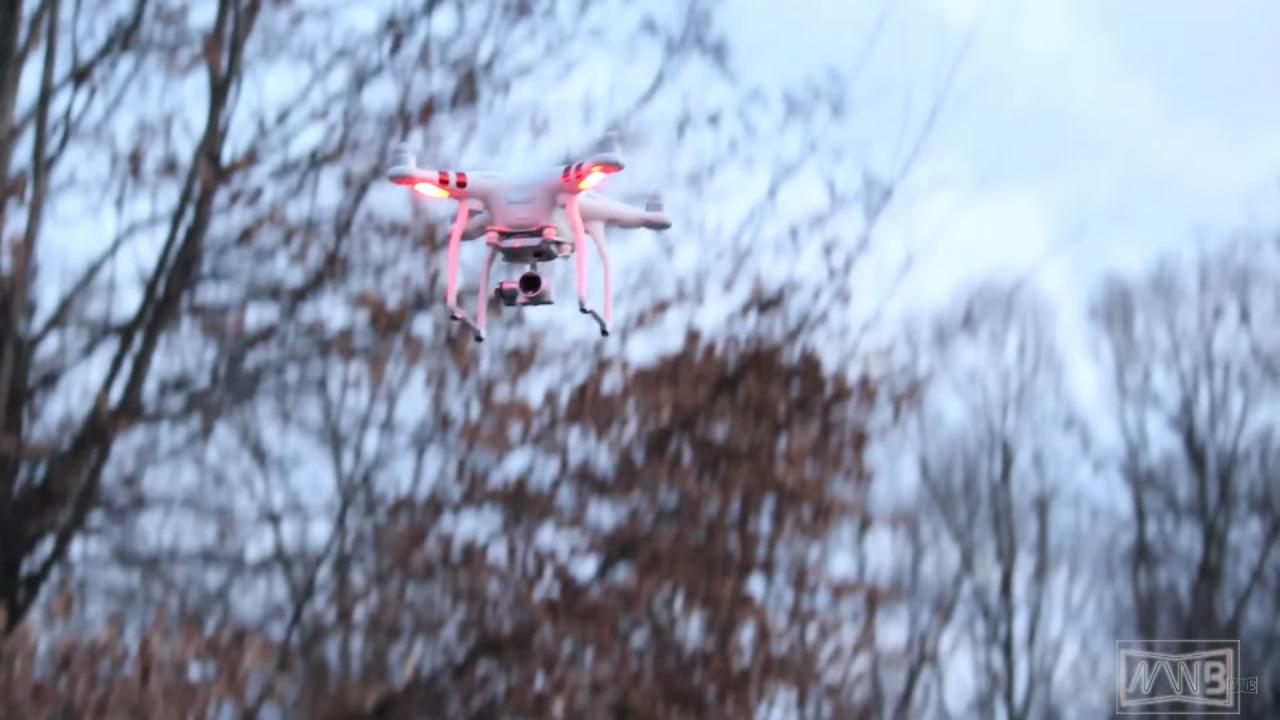Drone: (371, 150, 684, 350)
